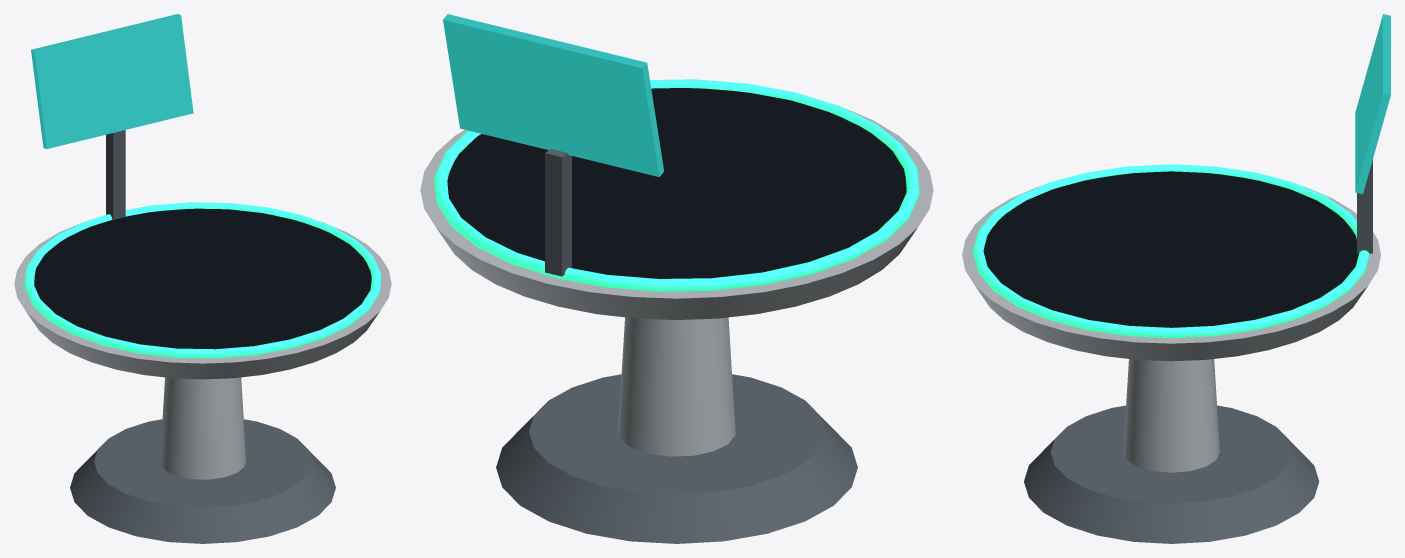
File: landing-planner.glb
3 views of the same model, side by side, from view 1: azimuth 30°, elevation 25°; view 2: azimuth 150°, elevation 25°; view 3: azimuth 270°, elevation 25° (orthographic). The views are drawn at different scales.
Parts seen in each view (by area): view 1: landing-planner-screen-off, landing-planner-dark-steel, landing-planner-panel-grey, planner_screen, holo_ring, _screen-arm-dark-steel; view 2: landing-planner-screen-off, landing-planner-dark-steel, landing-planner-panel-grey, planner_screen, holo_ring, _screen-arm-dark-steel; view 3: landing-planner-screen-off, landing-planner-dark-steel, landing-planner-panel-grey, holo_ring, planner_screen, _screen-arm-dark-steel.
Boxes of the visible parts, bbox=[...] form: landing-planner-screen-off: bbox=[34, 208, 371, 349]; landing-planner-dark-steel: bbox=[70, 419, 335, 543]; landing-planner-panel-grey: bbox=[14, 221, 391, 479]; planner_screen: bbox=[31, 14, 193, 148]; holo_ring: bbox=[24, 202, 381, 358]; _screen-arm-dark-steel: bbox=[106, 130, 125, 219]; landing-planner-screen-off: bbox=[447, 88, 906, 278]; landing-planner-dark-steel: bbox=[496, 374, 857, 543]; landing-planner-panel-grey: bbox=[420, 108, 933, 456]; planner_screen: bbox=[443, 14, 664, 176]; holo_ring: bbox=[434, 79, 919, 291]; _screen-arm-dark-steel: bbox=[545, 149, 571, 276]; landing-planner-screen-off: bbox=[983, 171, 1358, 327]; landing-planner-dark-steel: bbox=[1024, 405, 1319, 543]; landing-planner-panel-grey: bbox=[962, 186, 1380, 472]; holo_ring: bbox=[973, 164, 1369, 338]; planner_screen: bbox=[1355, 14, 1390, 194]; _screen-arm-dark-steel: bbox=[1357, 160, 1372, 253].
Size of the model in its own units: 1.56 by 1.76 by 1.6.
